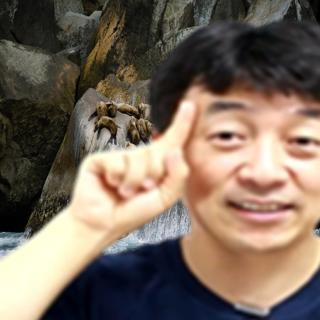IRRITATED: (68, 98, 202, 238)
